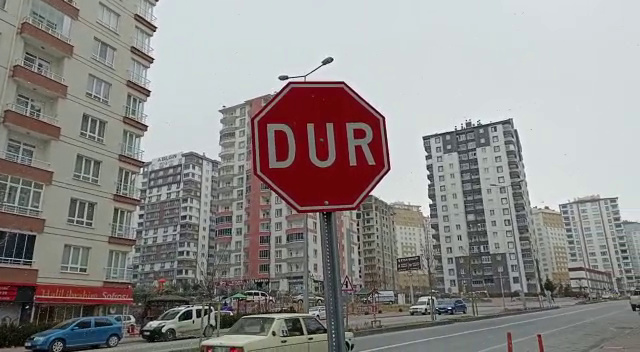stop: (246, 76, 396, 218)
